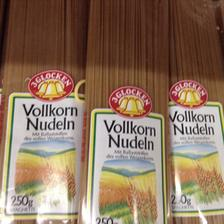Nudeln: (81, 1, 169, 223), (4, 0, 88, 224), (167, 0, 222, 224)
